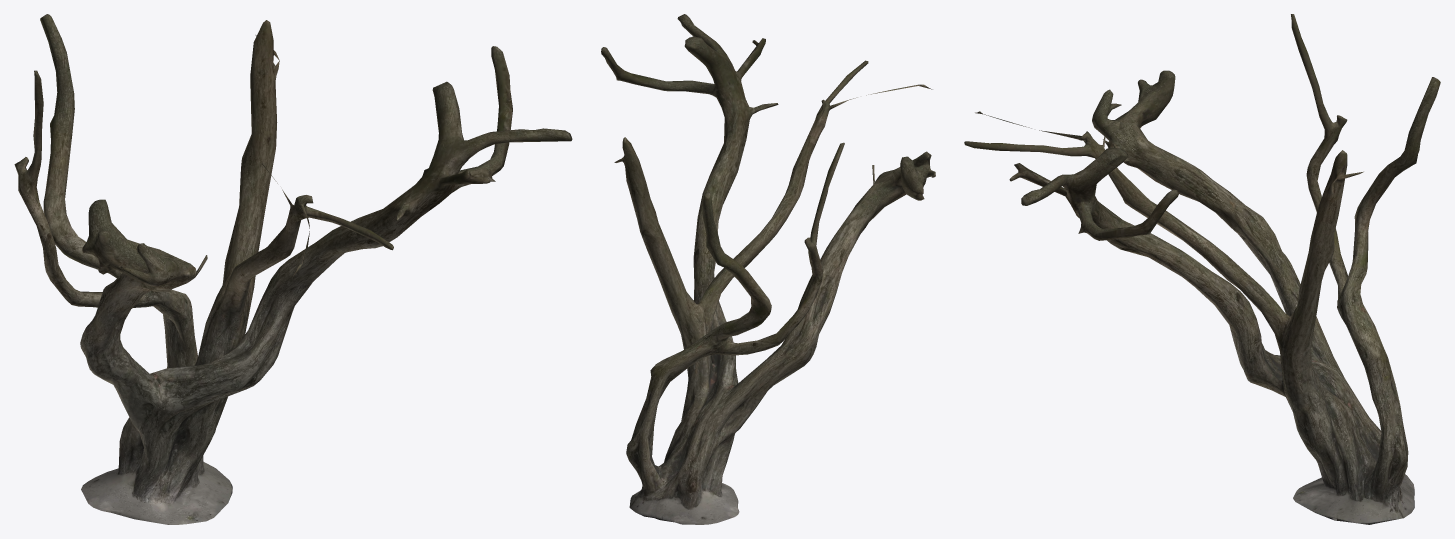
The model's file is Dead_tree.glb.
3 renders of one model, left to right at view 1: azimuth 30°, elevation 25°; view 2: azimuth 150°, elevation 25°; view 3: azimuth 270°, elevation 25°, orthographic. The views are drawn at different scales.
Parts seen in each view (by area): view 1: Obj3d66-19538030-1-190; view 2: Obj3d66-19538030-1-190; view 3: Obj3d66-19538030-1-190.
Part boxes in pixels (bbox=[...]): Obj3d66-19538030-1-190: bbox=[14, 14, 572, 524]; Obj3d66-19538030-1-190: bbox=[601, 14, 935, 524]; Obj3d66-19538030-1-190: bbox=[964, 14, 1440, 524].
Size of the model in its own units: 1.18 by 1.31 by 1.36.
Materials: 1 (1 with a texture image).
